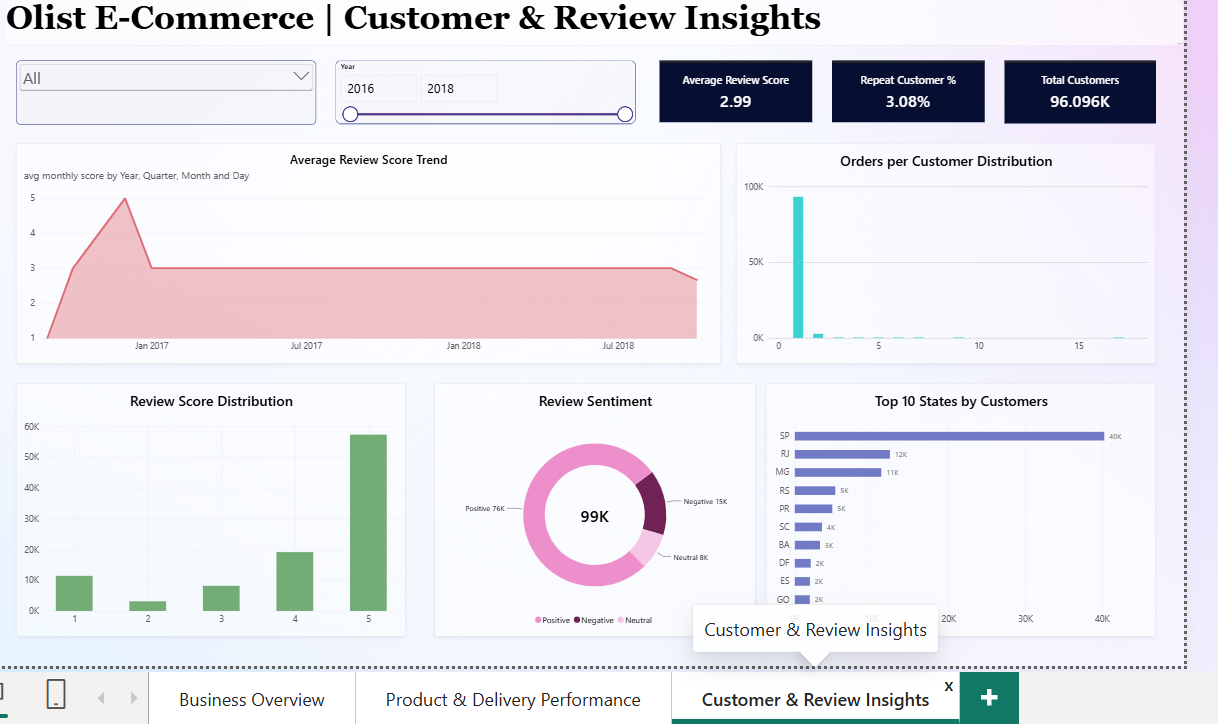

The dashboard page shown, as its layout file describes it:
{"tool":"powerbi","page":{"name":"Customer & Review Insights","canvas":[1920,1080],"ordinal":2},"visuals":[{"type":"textbox","title":"Olist E-Commerce | Customer & Review Insights","box":[12.5,0,1907.5,75],"z":0},{"type":"cardVisual","fields":{"Data":["Count(public customer_analysis.customer_unique_id)"]},"box":[1629.8,99.6,245.3,102],"z":1000},{"type":"cardVisual","fields":{"Data":["Avg(public review_analysis.review_score)"]},"box":[1071.1,99.6,247.5,100],"z":2000},{"type":"cardVisual","fields":{"Data":["public customer_analysis.repeat customer %"]},"box":[1350.4,99.6,247.5,100],"z":3000},{"type":"donutChart","title":"Review Sentiment","fields":{"Category":["public review_analysis.Review_Sentiment"],"Y":["Sum(public review_analysis.review_count)"]},"box":[706.8,621.8,519.8,410.5],"z":4000},{"type":"clusteredBarChart","title":"Top 10 States by Customers","fields":{"Category":["public customer_analysis.customer_state"],"Y":["Count(public customer_analysis.customer_unique_id)"]},"box":[1243.6,621.8,631.5,410.5],"z":5000},{"type":"columnChart","title":"Orders per Customer Distribution","fields":{"Category":["public customer_order_distribution.num_orders"],"Y":["CountNonNull(public customer_order_distribution.customer_unique_id)"]},"box":[1195,233.2,680.1,357],"z":6000},{"type":"clusteredColumnChart","title":"Review Score Distribution","fields":{"Category":["public review_analysis.review_score"],"Y":["Sum(public review_analysis.review_count)"]},"box":[29.1,621.8,631.5,410.5],"z":7000},{"type":"lineChart","title":"Average Review Score Trend","fields":{"Category":["public review_analysis.order_month.Variation.Date Hierarchy.Year","public review_analysis.order_month.Variation.Date Hierarchy.Quarter","public review_analysis.order_month.Variation.Date Hierarchy.Month","public review_analysis.order_month.Variation.Date Hierarchy.Day"],"Y":["public customer_analysis.avg monthly score"]},"box":[29.1,233.2,1141.6,357],"z":8000},{"type":"slicer","fields":{"Values":["public customer_analysis.customer_state"]},"box":[29.1,99.6,485.8,104],"z":9000},{"type":"slicer","fields":{"Values":["public sales_summary.month.Variation.Date Hierarchy.Year"]},"box":[546.5,99.6,485.8,102],"z":10000}]}

Visuals, with their boxes on the page's 1920x1080 design canvas (x1, y1, x2, y2). These are canvas units, not pixel positions in the 1218x724 screenshot, which may show the page scaled, cropped or inside an application window:
"Olist E-Commerce | Customer & Review Insights" textbox: x1=12, y1=0, x2=1920, y2=75
cardVisual - Count(public customer_analysis.customer_unique_id): x1=1630, y1=100, x2=1875, y2=202
cardVisual - Avg(public review_analysis.review_score): x1=1071, y1=100, x2=1319, y2=200
cardVisual - public customer_analysis.repeat customer %: x1=1350, y1=100, x2=1598, y2=200
"Review Sentiment" donutChart: x1=707, y1=622, x2=1227, y2=1032
"Top 10 States by Customers" clusteredBarChart: x1=1244, y1=622, x2=1875, y2=1032
"Orders per Customer Distribution" columnChart: x1=1195, y1=233, x2=1875, y2=590
"Review Score Distribution" clusteredColumnChart: x1=29, y1=622, x2=661, y2=1032
"Average Review Score Trend" lineChart: x1=29, y1=233, x2=1171, y2=590
slicer - public customer_analysis.customer_state: x1=29, y1=100, x2=515, y2=204
slicer - public sales_summary.month.Variation.Date Hierarchy.Year: x1=546, y1=100, x2=1032, y2=202
